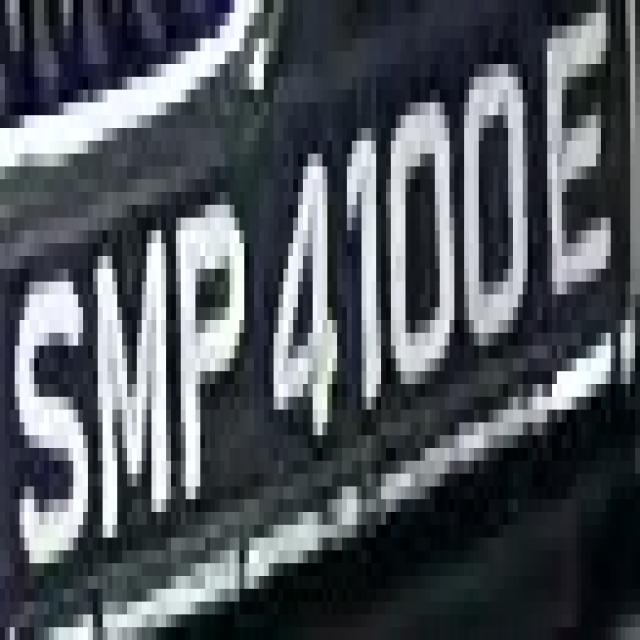0: (450, 64, 538, 397), (372, 115, 454, 410)
1: (327, 77, 386, 512)
4: (249, 141, 337, 512)
E: (532, 25, 620, 332)
M: (78, 205, 176, 525)
P: (161, 192, 254, 576)
S: (14, 243, 92, 589)
